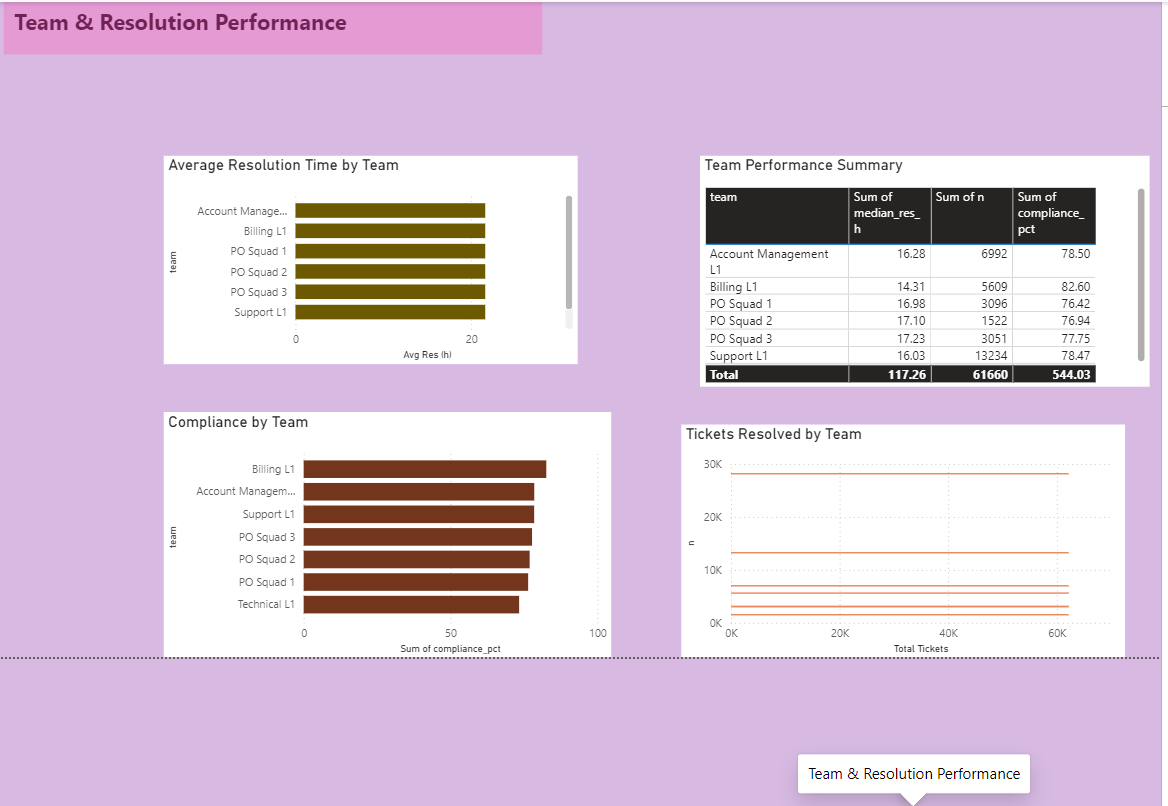

The dashboard page shown, as its layout file describes it:
{"tool":"powerbi","page":{"name":"Team & Resolution Performance","canvas":[1280,720],"ordinal":3},"visuals":[{"type":"textbox","box":[9.6,0,591.4,57.6],"z":0},{"type":"clusteredBarChart","title":"Average Resolution Time by Team","fields":{"Category":["team_kpi.team"],"Y":["category_kpi.Avg Res (h)"]},"box":[185.2,168.8,454.2,229.2],"z":1},{"type":"clusteredBarChart","title":"Compliance by Team","fields":{"Category":["team_kpi.team"],"Y":["Sum(team_kpi.compliance_pct)"]},"box":[185.2,450.1,491.3,270.3],"z":2},{"type":"clusteredBarChart","title":"Tickets Resolved by Team","fields":{"Category":["team_kpi.n"],"Y":["category_kpi.Total Tickets"]},"box":[753.3,463.8,487.1,256.6],"z":3},{"type":"tableEx","title":"Team Performance Summary","fields":{"Values":["team_kpi.team","Sum(team_kpi.median_res_h)","Sum(team_kpi.n)","Sum(team_kpi.compliance_pct)"]},"box":[773.9,168.8,494,253.9],"z":4}]}

Visuals, with their boxes on the page's 1280x720 design canvas (x1, y1, x2, y2). These are canvas units, not pixel positions in the 1168x806 screenshot, which may show the page scaled, cropped or inside an application window:
textbox: [10, 0, 601, 58]
"Average Resolution Time by Team" clusteredBarChart: [185, 169, 639, 398]
"Compliance by Team" clusteredBarChart: [185, 450, 676, 720]
"Tickets Resolved by Team" clusteredBarChart: [753, 464, 1240, 720]
"Team Performance Summary" tableEx: [774, 169, 1268, 423]
